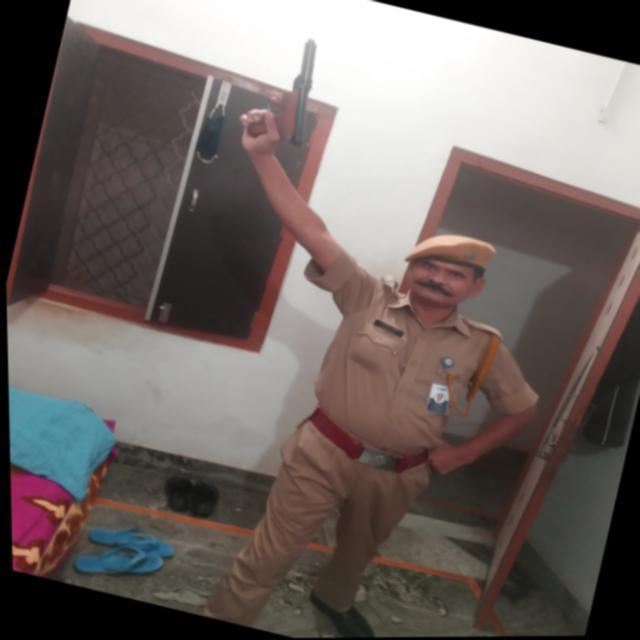weapon: (230, 24, 356, 166)
